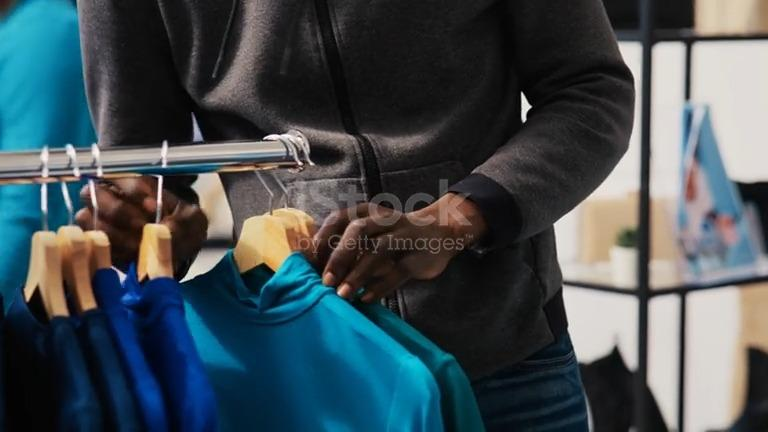Non shoplifting: (72, 0, 643, 432)
